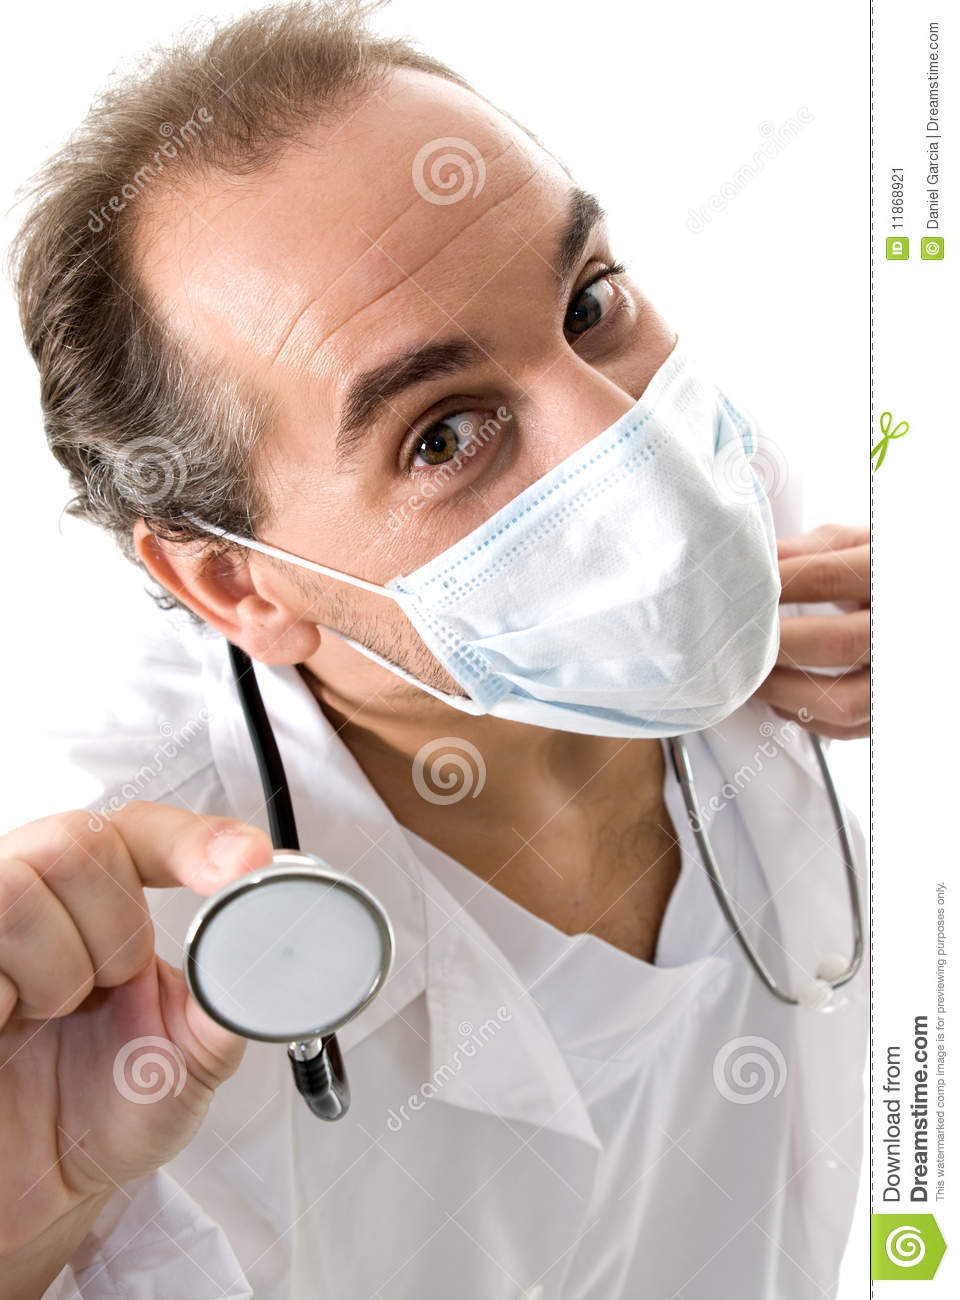mask: (399, 346, 792, 746)
